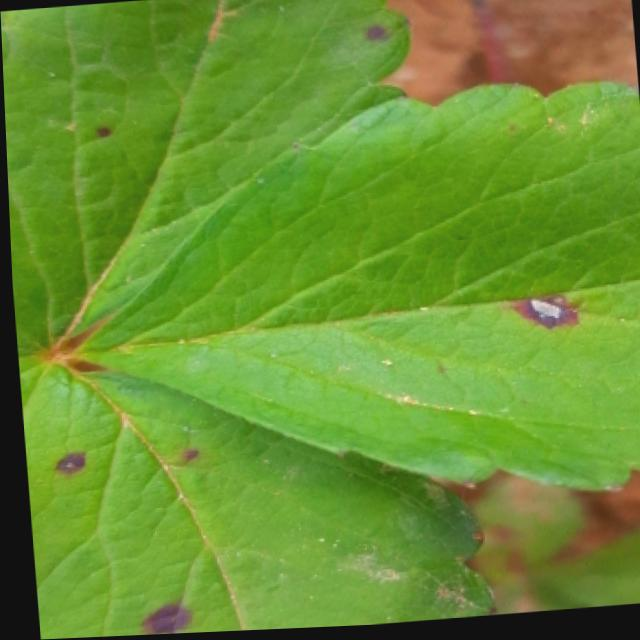Leaf Spot: (61, 83, 640, 500), (1, 0, 410, 357), (13, 352, 491, 640), (463, 478, 584, 589)
